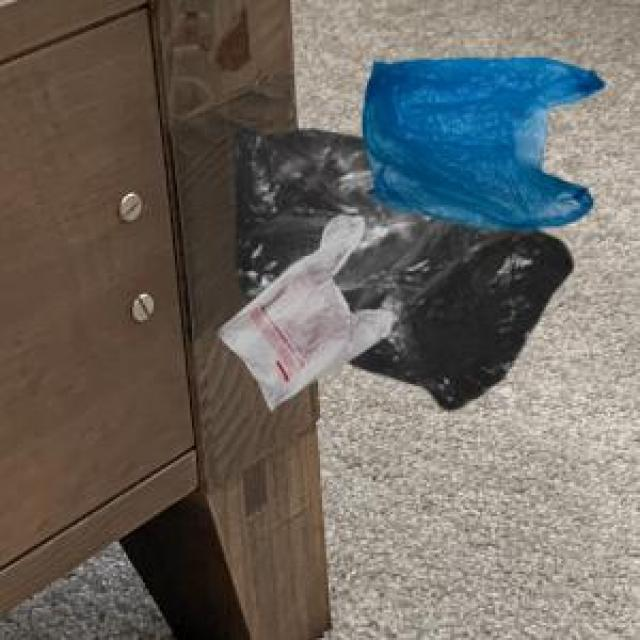waste: (238, 130, 574, 409), (364, 58, 605, 229), (219, 218, 391, 408)
